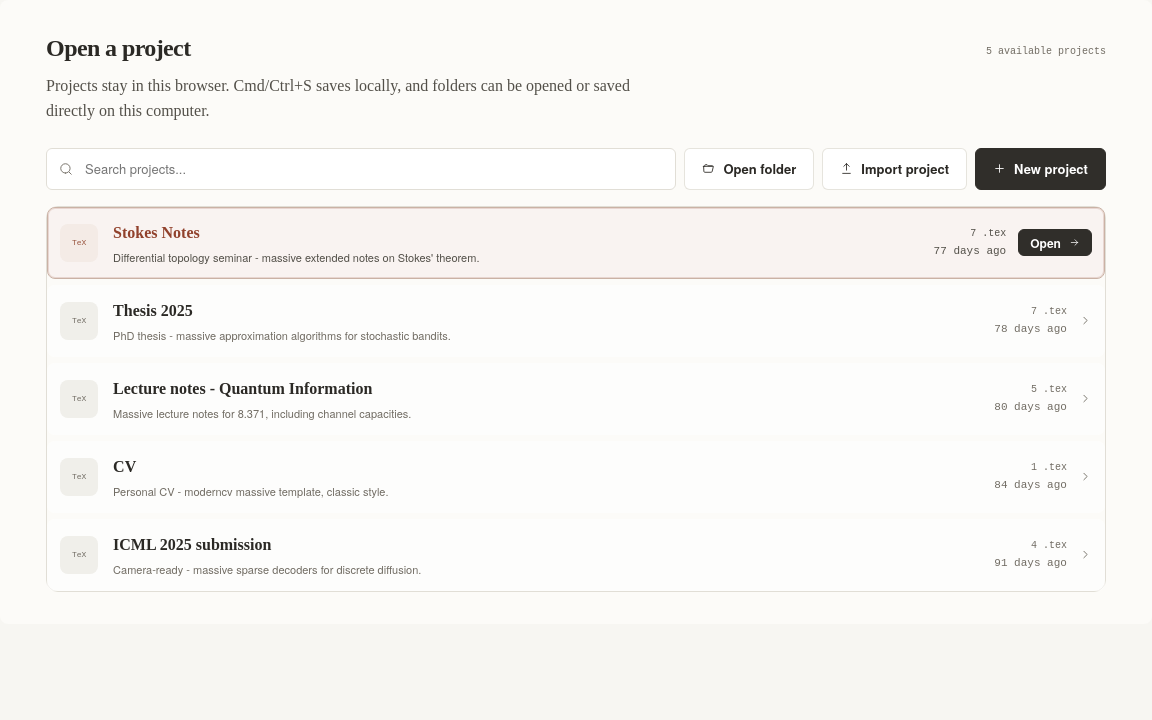
Test: <ProjectPicker /> › opens a local LaTeX folder through the browser filesystem bridge
Click the button "Open folder".
click(749, 169)  # box [684,148,814,190]
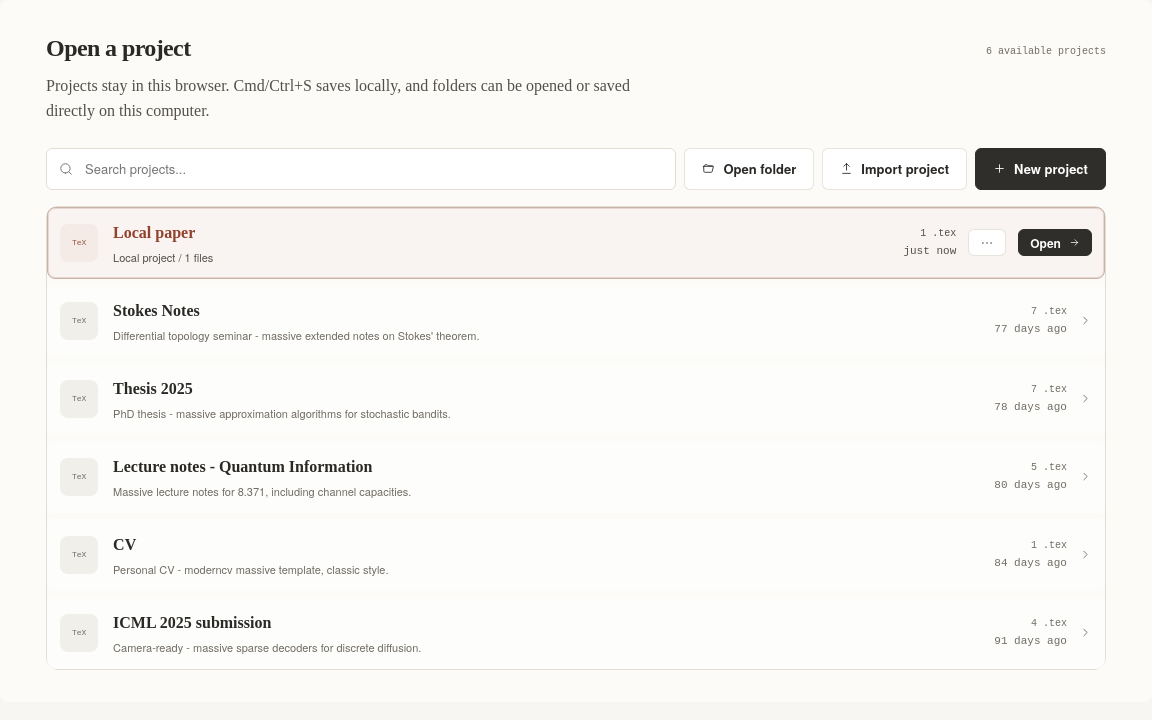
Check: the text "Local paper" is shown, box [113,221,195,245]
